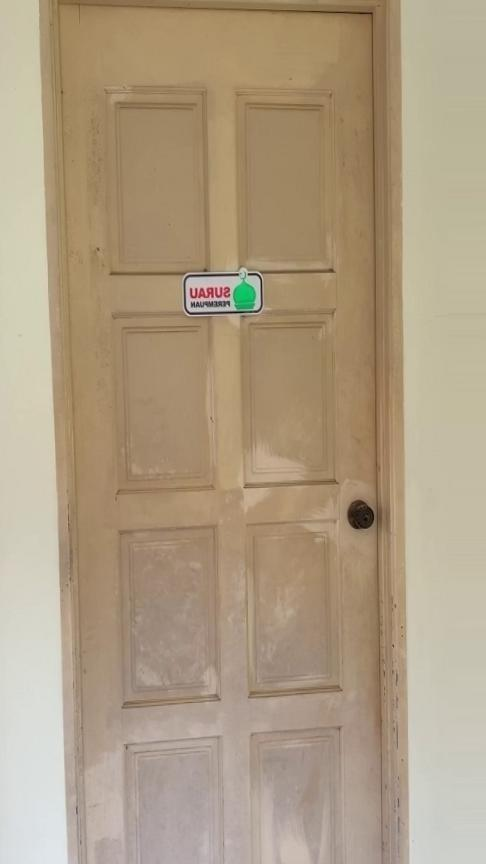door: (46, 0, 413, 856)
